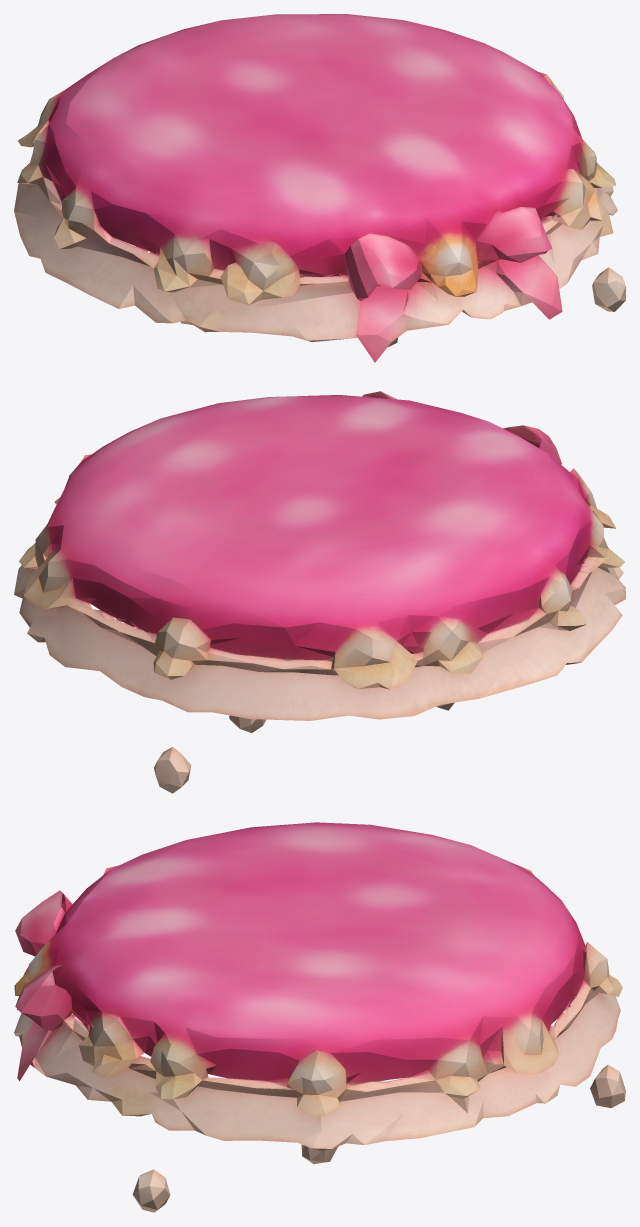
3 views of the same model, one above another, from view 1: azimuth 30°, elevation 25°; view 2: azimuth 150°, elevation 25°; view 3: azimuth 270°, elevation 25° (orthographic).
Visible parts, largest first — view 1: model; view 2: model; view 3: model.
Boxes of the visible parts, bbox=[...] form: model: bbox=[14, 14, 625, 362]; model: bbox=[14, 391, 625, 793]; model: bbox=[14, 822, 625, 1212].
Bounding box in the file's own units: 186 × 68.4 × 187.
1 material, 1 textured.
